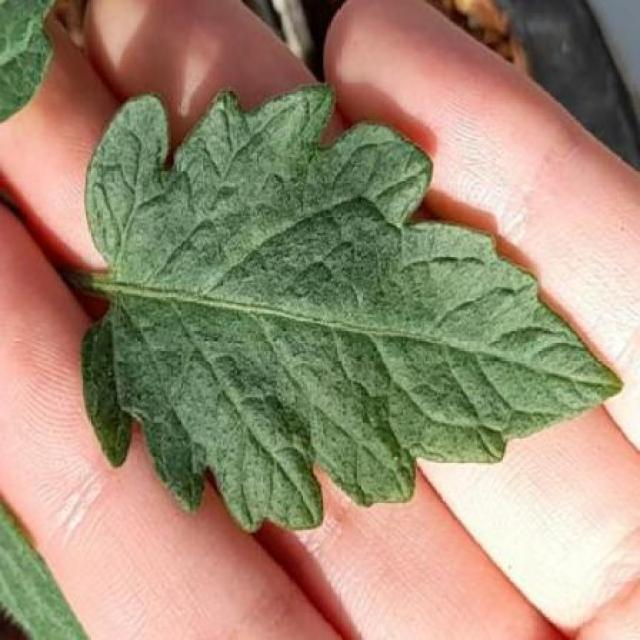Healthy: (83, 84, 623, 532)
